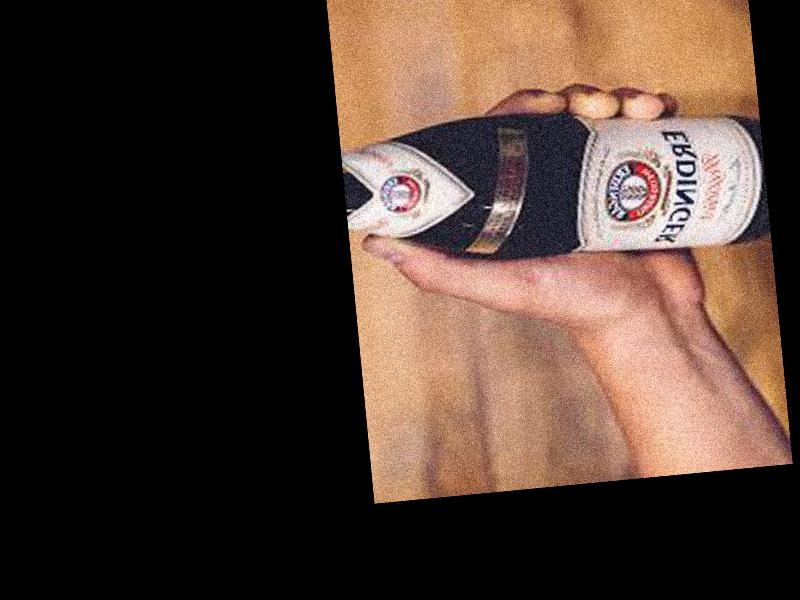Beer: (343, 91, 771, 282)
